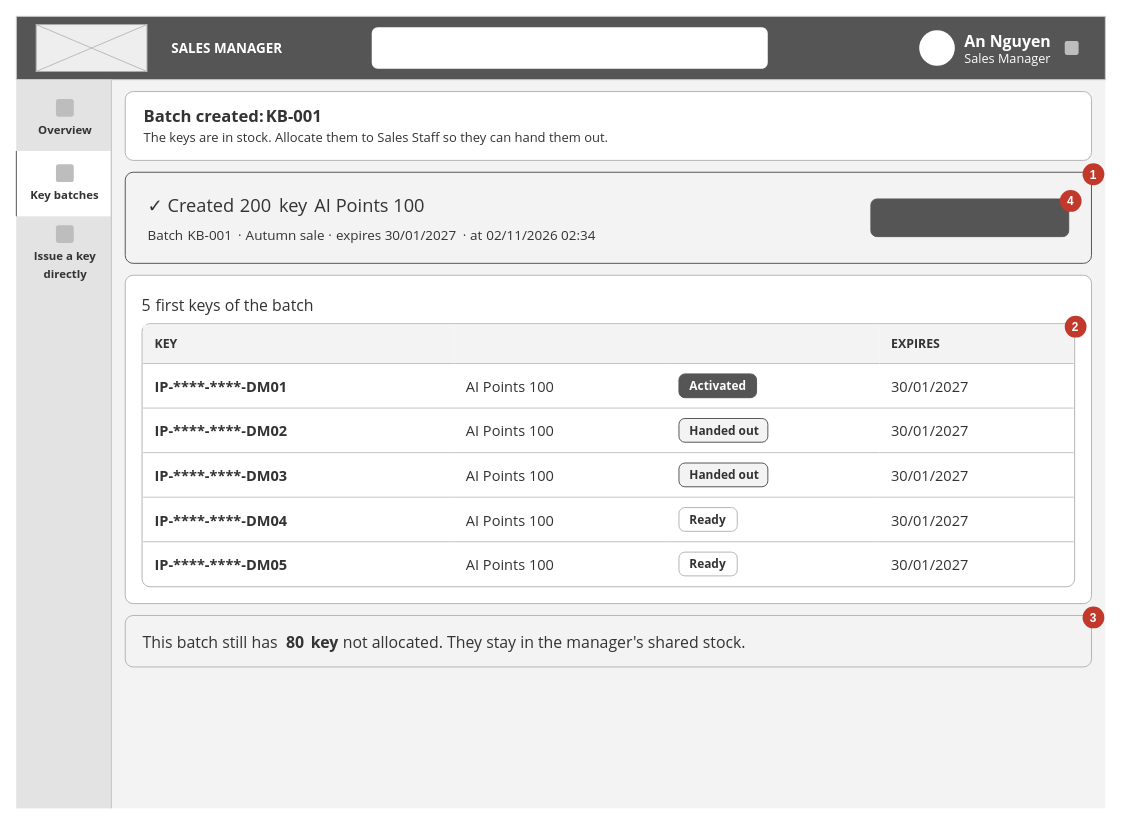
Some shapes in this 1126 by 825 pixel diagram are drawn without their labels. The shapes that lost their labels are listed below. From the top down, each one's centre as x and y in pixels, then its label:
At point (569, 47): "Search this page".
At point (936, 47): "AN".
At point (969, 217): "Allocate to Sales Staff".
At point (560, 343): "PRODUCT".
At point (773, 343): "STATUS".
